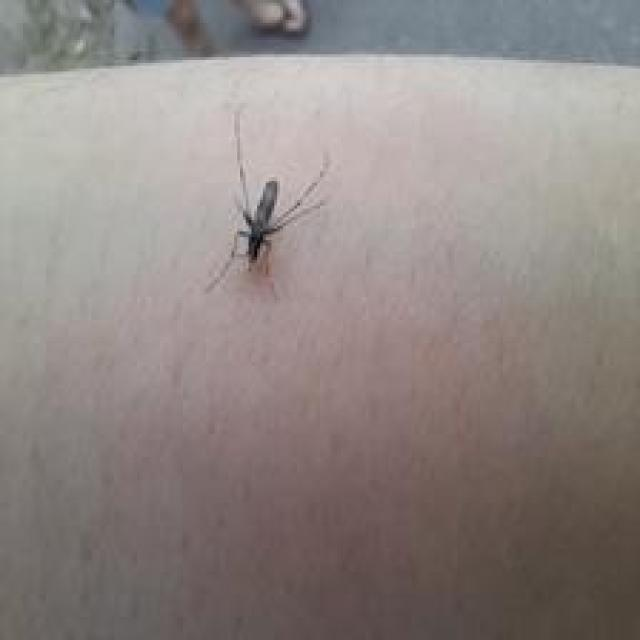Aedes albopictus: (203, 109, 331, 294)
